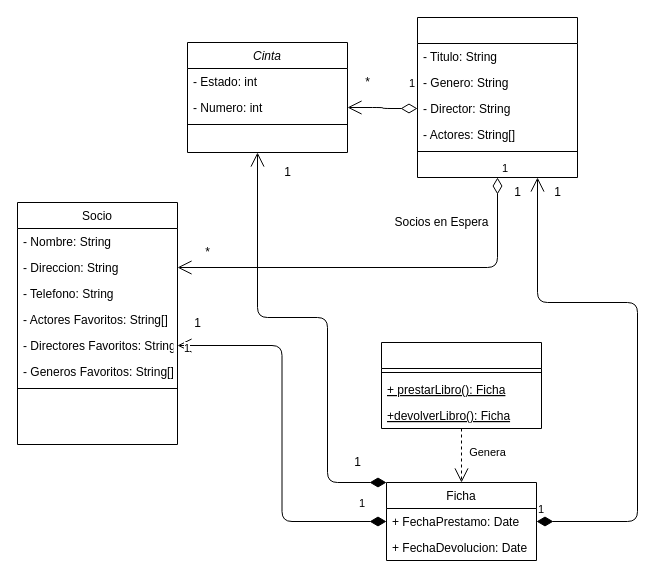
The diagram is 672 pixels wide and 581 high, and some of its shapes have lost their labels. Here are the shapes that lost their labels. From the top down, the box of each, then its label:
(416, 16, 578, 178): Pelicula
(380, 342, 542, 428): Controllador
